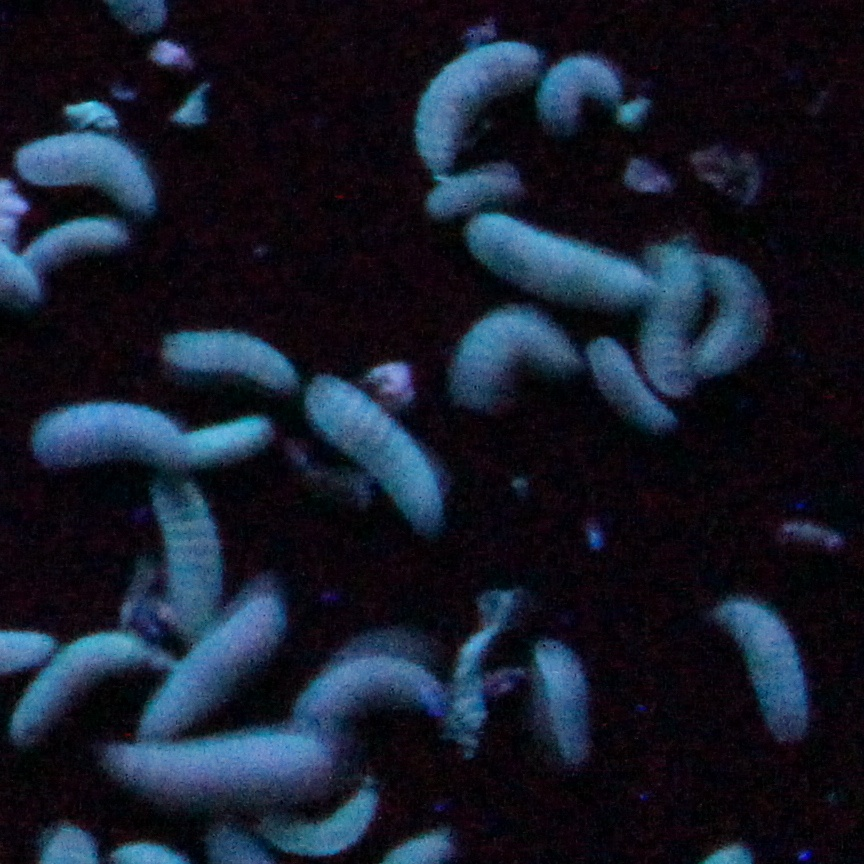larve: (16, 634, 145, 742), (488, 225, 653, 309), (328, 390, 438, 507), (167, 605, 282, 712), (423, 37, 525, 150), (104, 734, 319, 786), (729, 592, 804, 739), (306, 654, 453, 722), (31, 407, 199, 466), (26, 137, 167, 205), (170, 322, 301, 381), (160, 486, 221, 612), (590, 330, 667, 428), (464, 316, 553, 400), (272, 788, 382, 844), (704, 267, 757, 383), (532, 644, 585, 751), (658, 246, 692, 386), (425, 167, 513, 218), (38, 217, 121, 264), (551, 60, 606, 123), (197, 420, 275, 464)
